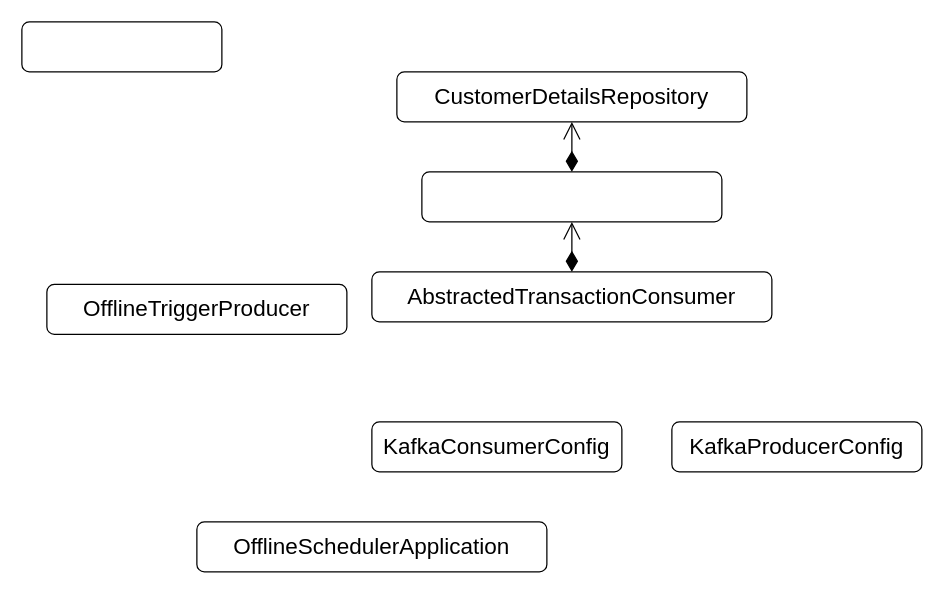
This 944x594 diagram has some shape labels left out. The box of each missing label's shape, as (x1, y1, x2, y2) in pixels:
CustomerDetails: (21, 21, 222, 72)
TransactionCountTrigger: (421, 171, 722, 222)
